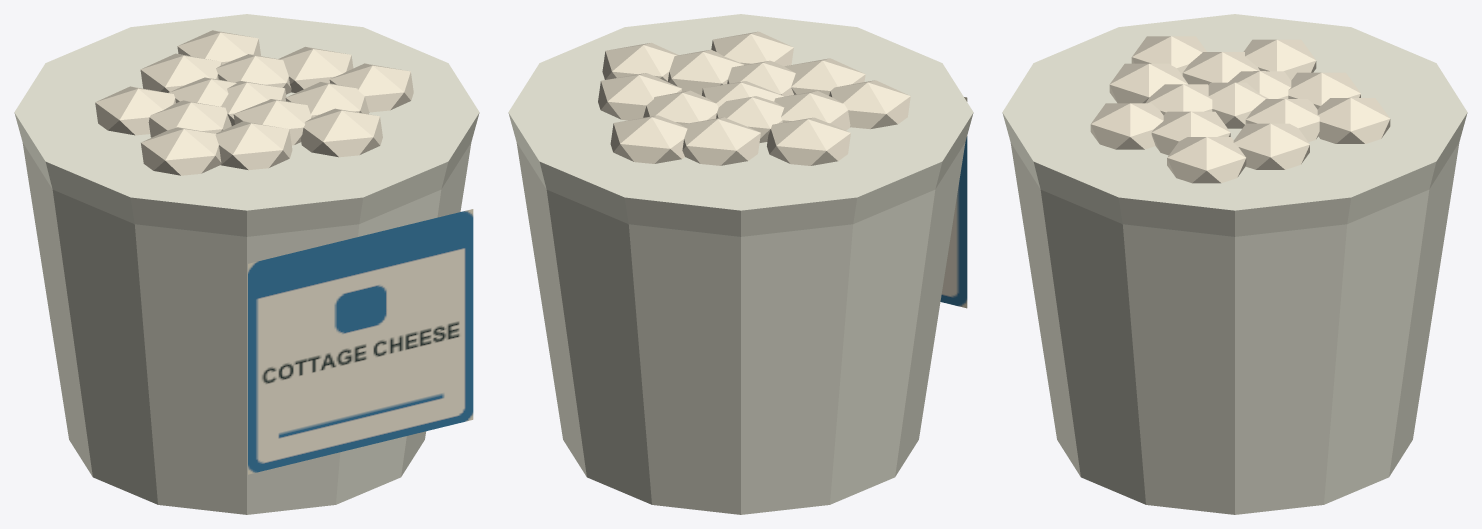
File: cottage_cheese.fbx
The picture shows the model from 3 angles, left to right: view 1: azimuth 30°, elevation 25°; view 2: azimuth 150°, elevation 25°; view 3: azimuth 270°, elevation 25°; orthographic projection.
Parts seen in each view (by area): view 1: cottage_cheese; view 2: cottage_cheese; view 3: cottage_cheese.
Boxes of the visible parts, x1,y1,x2,y2 form: cottage_cheese: [14, 14, 479, 514]; cottage_cheese: [508, 14, 973, 514]; cottage_cheese: [1002, 14, 1467, 514].
Size of the model in its own units: 17 by 14.4 by 17.
